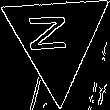N_E: (33, 17, 80, 60)
